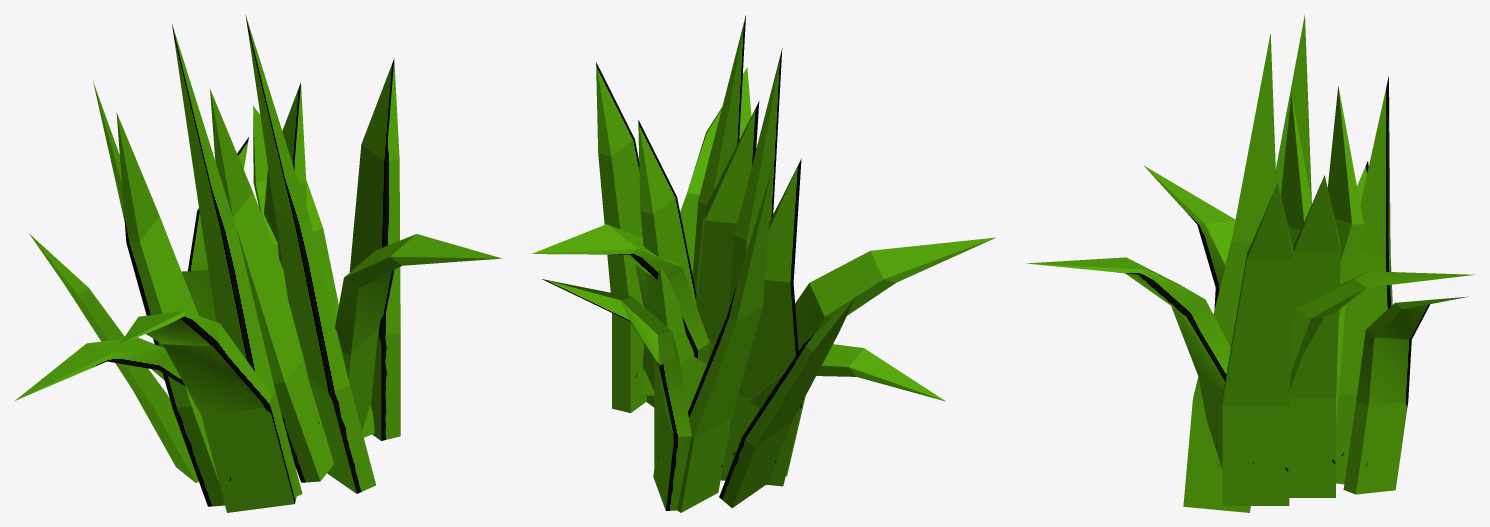
The model's file is grass01.gltf.
3 renders of one model, left to right at view 1: azimuth 30°, elevation 25°; view 2: azimuth 150°, elevation 25°; view 3: azimuth 270°, elevation 25°, orthographic. The views are drawn at different scales.
Parts seen in each view (by area): view 1: Cube.013; view 2: Cube.013; view 3: Cube.013.
Boxes of the visible parts, left/top/right/bottom form: Cube.013: left=15, top=15, right=502, bottom=512; Cube.013: left=532, top=15, right=995, bottom=512; Cube.013: left=1026, top=15, right=1474, bottom=512.
Size of the model in its own units: 0.5117 by 0.6338 by 0.5645.
1 material, 1 textured.
